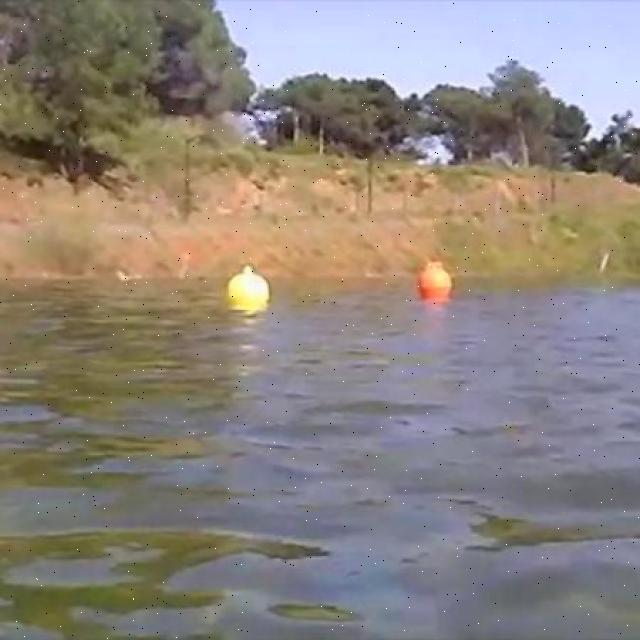buoy: (226, 264, 269, 306), (417, 262, 452, 300)
